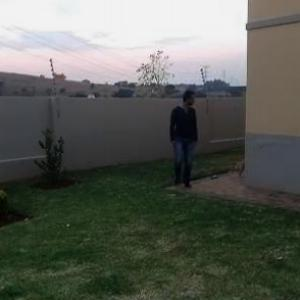follow: (166, 88, 200, 189)
